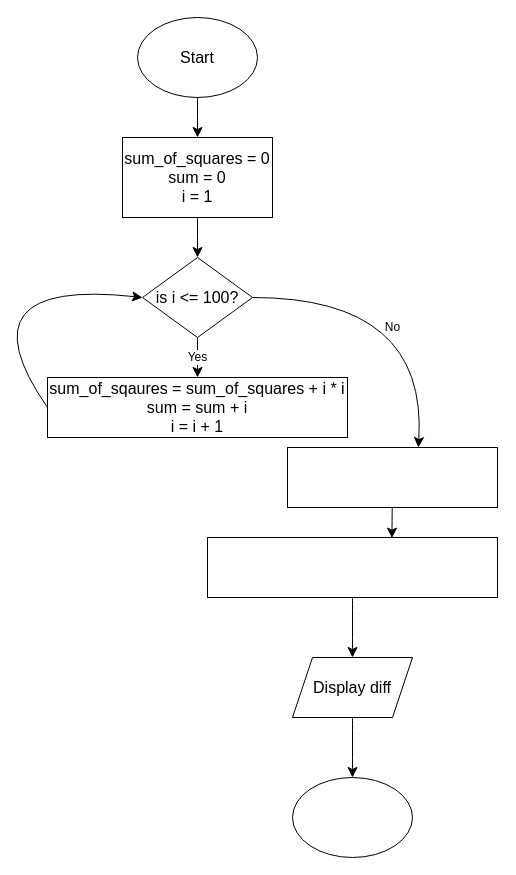
Some shapes in this 516 by 875 pixel diagram are drawn without their labels. The centre of each missing label's shape, as x and y in pixels:
diff = square_of_sum - sum_of_squares: point 352,567
sqaure_of_sum = sum * sum: point 392,477
Stop: point 352,817
